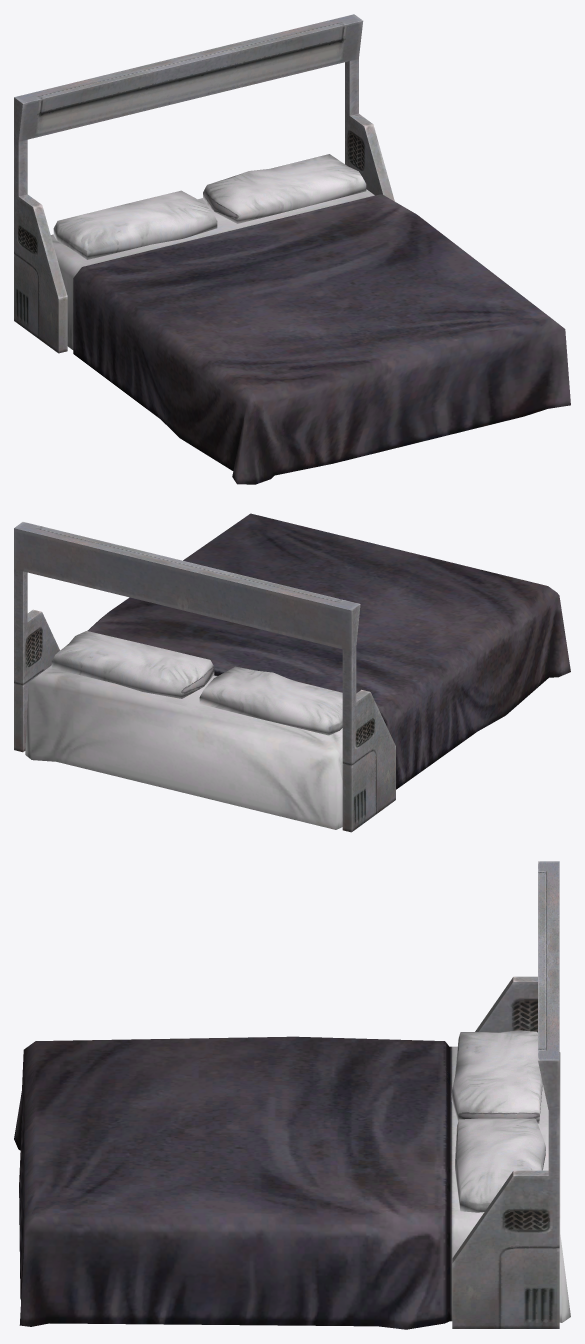
File: frn_all_bed_lg_s2_l0.fbx
3 renders of one model, top to bottom at view 1: azimuth 30°, elevation 25°; view 2: azimuth 150°, elevation 25°; view 3: azimuth 270°, elevation 25°, orthographic. The views are drawn at different scales.
Parts seen in each view (by area): view 1: mesh_node; view 2: mesh_node; view 3: mesh_node.
Boxes of the visible parts, box(x1,y1,x2,y2) form: mesh_node: box(14, 14, 570, 484); mesh_node: box(14, 513, 570, 832); mesh_node: box(14, 861, 570, 1329).
Size of the model in its own units: 1.72 by 1.09 by 2.04.
